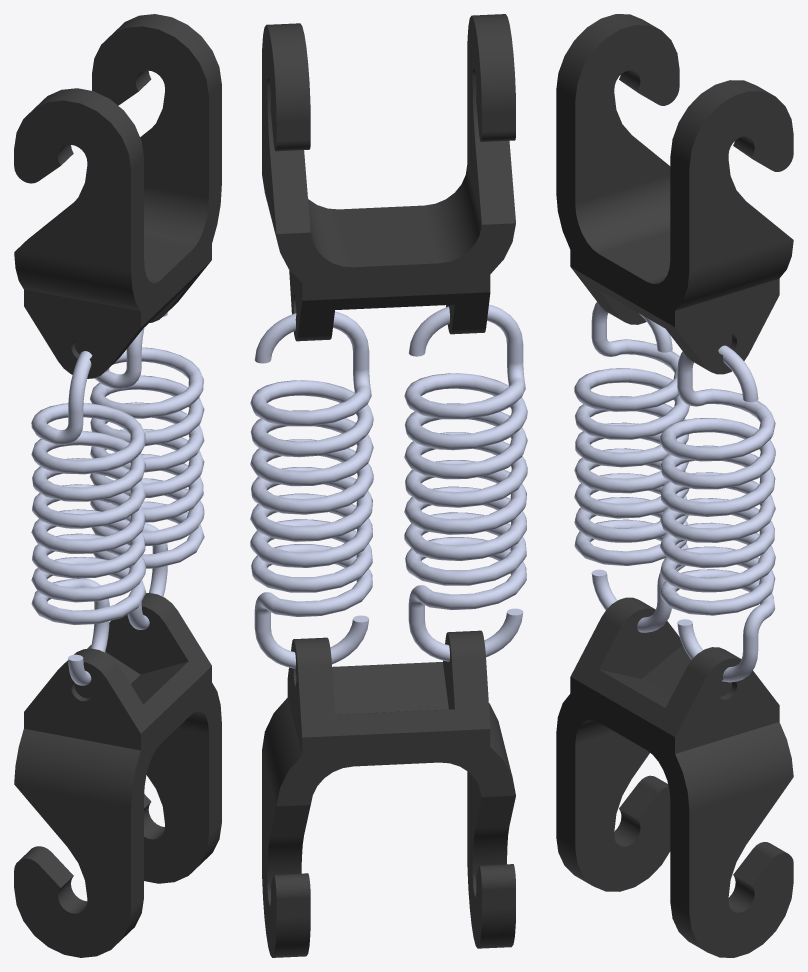
The picture shows the model from 3 angles, left to right: view 1: azimuth 30°, elevation 25°; view 2: azimuth 150°, elevation 25°; view 3: azimuth 270°, elevation 25°; orthographic projection. The views are drawn at different scales.
Parts seen in each view (by area): view 1: IRB360_6-1600-STD-4D_rev03_LA1_CL_CAD; view 2: IRB360_6-1600-STD-4D_rev03_LA1_CL_CAD; view 3: IRB360_6-1600-STD-4D_rev03_LA1_CL_CAD.
Part boxes in pixels (left/top/right/bottom): IRB360_6-1600-STD-4D_rev03_LA1_CL_CAD: left=14, top=14, right=221, bottom=957; IRB360_6-1600-STD-4D_rev03_LA1_CL_CAD: left=250, top=14, right=527, bottom=957; IRB360_6-1600-STD-4D_rev03_LA1_CL_CAD: left=556, top=14, right=793, bottom=957.
Size of the model in its own units: 0.032 by 0.1178 by 0.0294.
